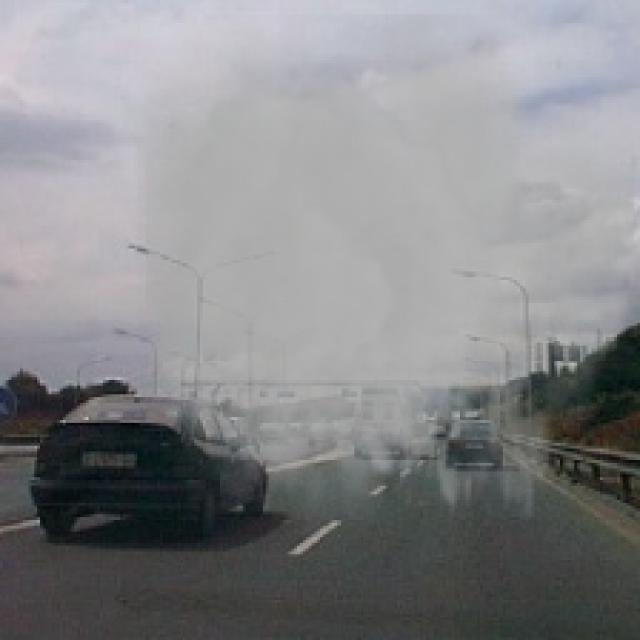Smoke: (115, 14, 634, 574)
